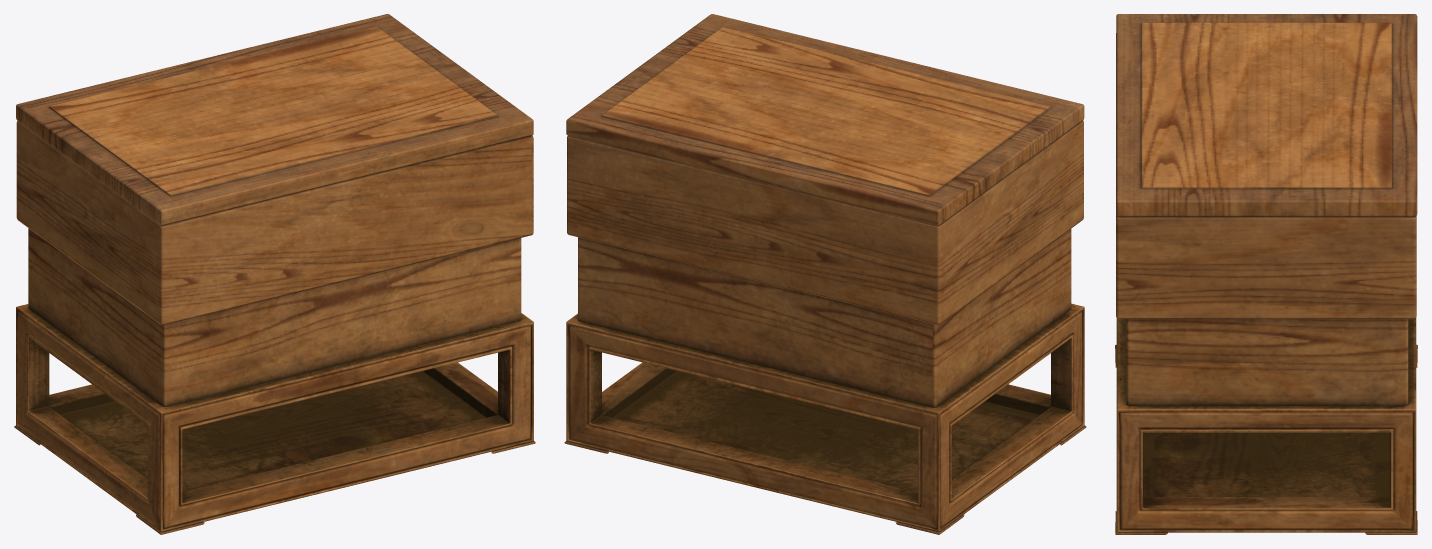
Rendered from SM_SJJ_CabinetC.fbx.
The picture shows the model from 3 angles, left to right: view 1: azimuth 30°, elevation 25°; view 2: azimuth 150°, elevation 25°; view 3: azimuth 270°, elevation 25°; orthographic projection. The views are drawn at different scales.
Parts seen in each view (by area): view 1: cabinet_bottom, cabinet_top; view 2: cabinet_bottom, cabinet_top; view 3: cabinet_bottom, cabinet_top.
Part boxes in pixels (box(x1,y1,x2,y2)): cabinet_bottom: box(14, 121, 535, 534); cabinet_top: box(16, 14, 533, 225); cabinet_bottom: box(564, 120, 1086, 534); cabinet_top: box(566, 14, 1084, 225); cabinet_bottom: box(1115, 33, 1417, 534); cabinet_top: box(1116, 14, 1417, 216).
Size of the model in its own units: 33.05 by 27.38 by 22.41.
